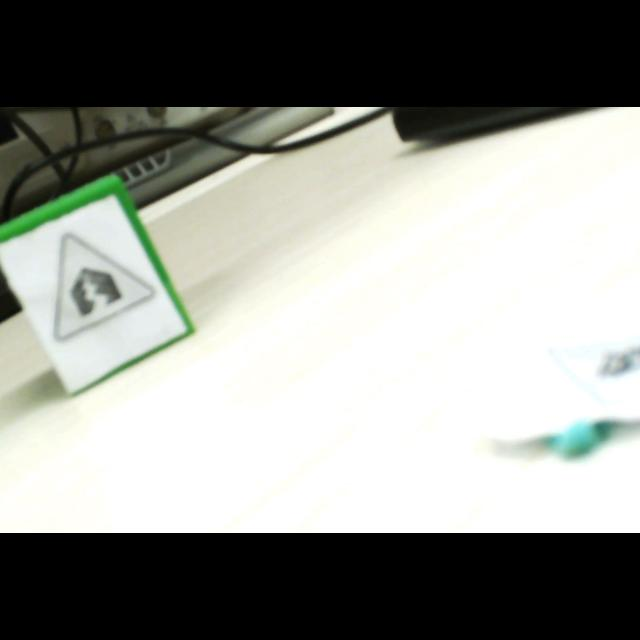Earthquake: (55, 233, 154, 340)
